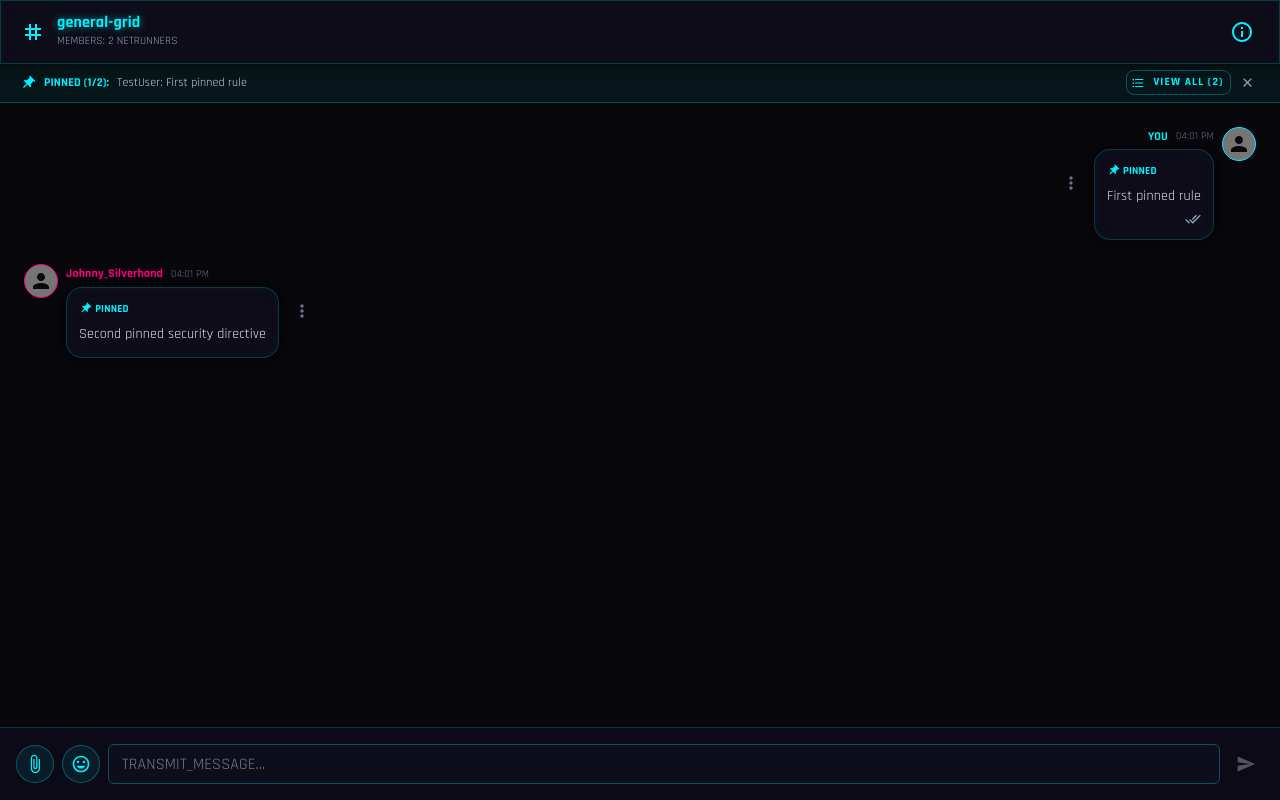
ChatArea Unit Tests › renders multi-pin button and opens pinned list modal on click
The width and height of the screenshot is (1280, 800).
expect the text "PINNED (1/2):" is shown: met, box left=44, top=73, right=109, bottom=93
Note: Click to open Pinned Messages List Dialog
Click the button "View All (2)". click: (1178, 83)
box: left=1126, top=70, right=1231, bottom=95
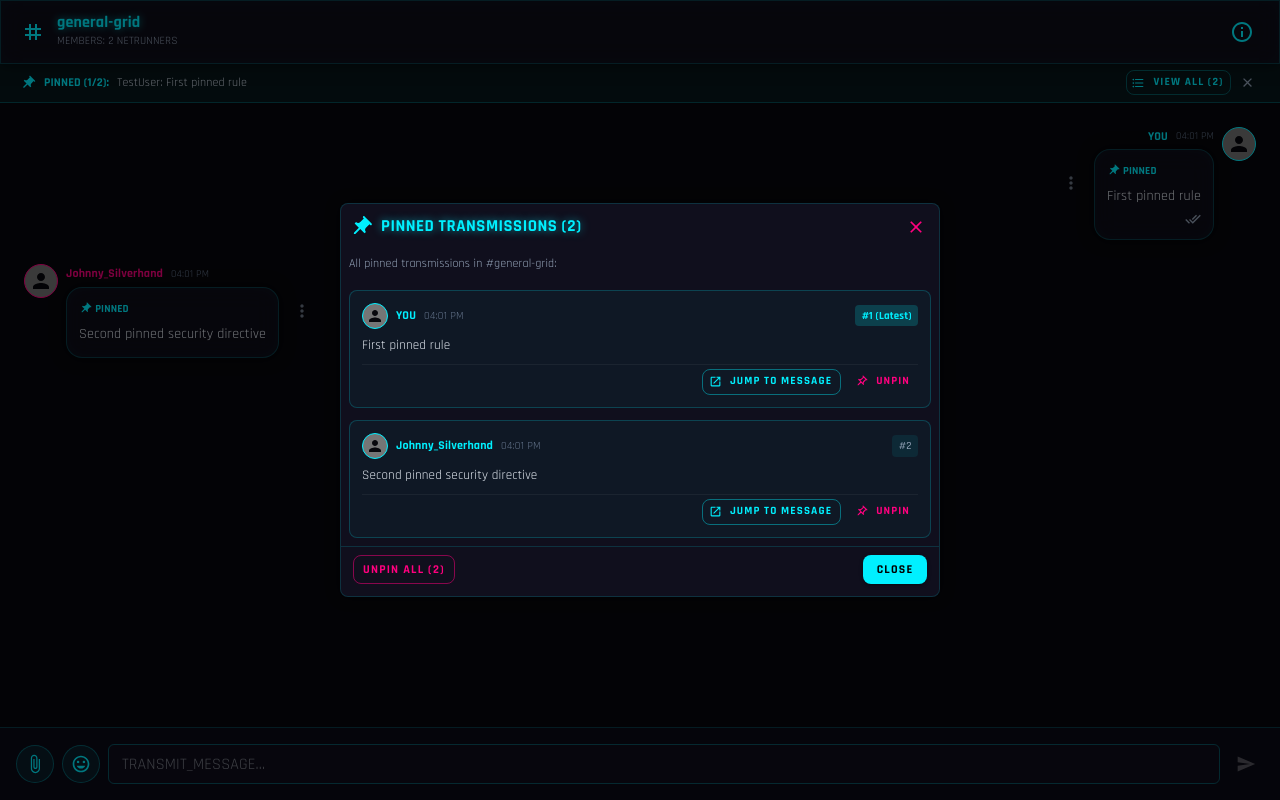
expect the heading "PINNED TRANSMISSIONS (2)" is shown: met, box left=381, top=214, right=582, bottom=240
expect the text "First pinned rule" is shown 2 times: met, box left=1107, top=186, right=1201, bottom=207; left=362, top=337, right=450, bottom=354
expect the text "Second pinned security directive" is shown 2 times: met, box left=79, top=324, right=266, bottom=345; left=362, top=467, right=537, bottom=484
